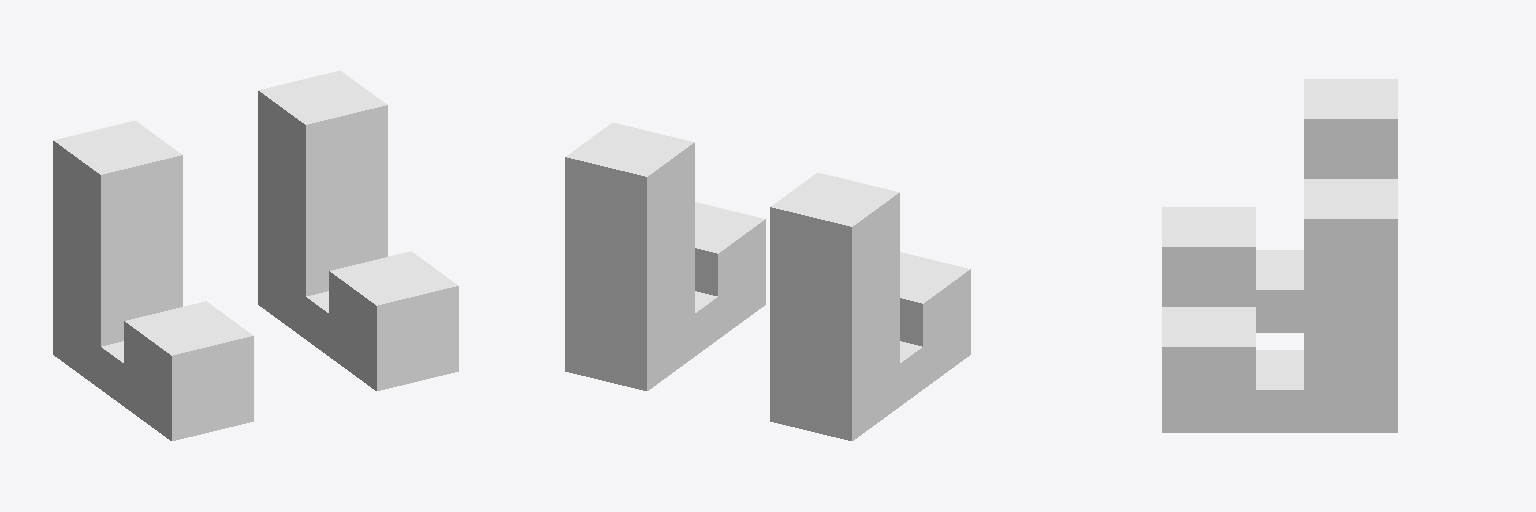
Rendered from DuoCherrypies1.obj.
3 renders of one model, left to right at view 1: azimuth 30°, elevation 25°; view 2: azimuth 150°, elevation 25°; view 3: azimuth 270°, elevation 25°, orthographic.
Parts seen in each view (by area): view 1: object 1; view 2: object 1; view 3: object 1.
Boxes of the visible parts, box(x1,y1,x2,y2) form: object 1: box(53, 71, 458, 440); object 1: box(565, 123, 970, 440); object 1: box(1162, 79, 1397, 432).
Size of the model in its own units: 0.7 by 0.5 by 0.5.